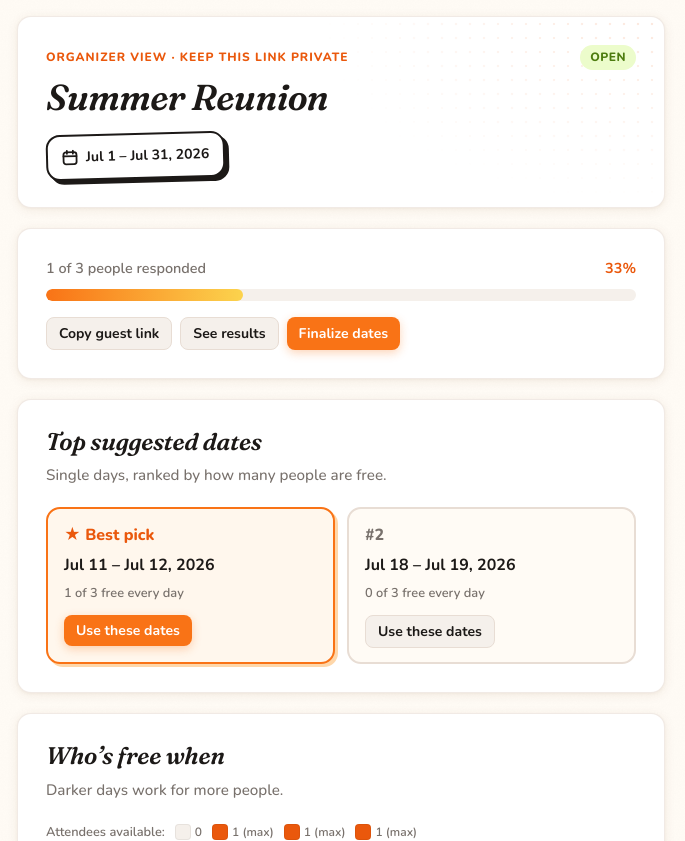
Scenario: AdminDashboard › "Use these dates" pre-fills the finalize form
Click the button "Use these dates" below "Jul 11 – Jul 12, 2026" at (128, 631), box [64, 615, 192, 646]
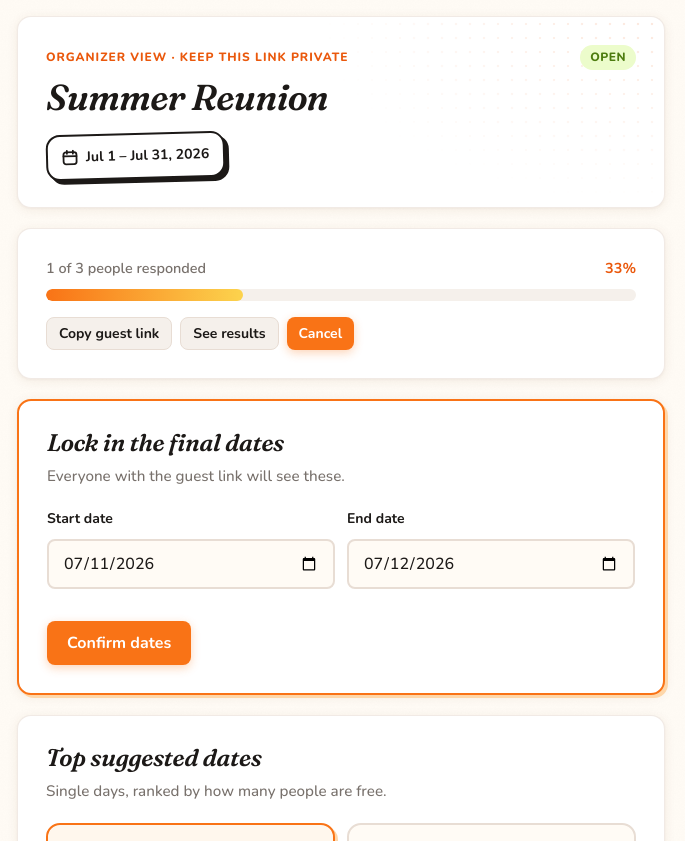
Now the date field labelled "Start date" holds "2026-07-11", box [47, 539, 335, 589]
Now the date field labelled "End date" holds "2026-07-12", box [347, 539, 635, 589]
